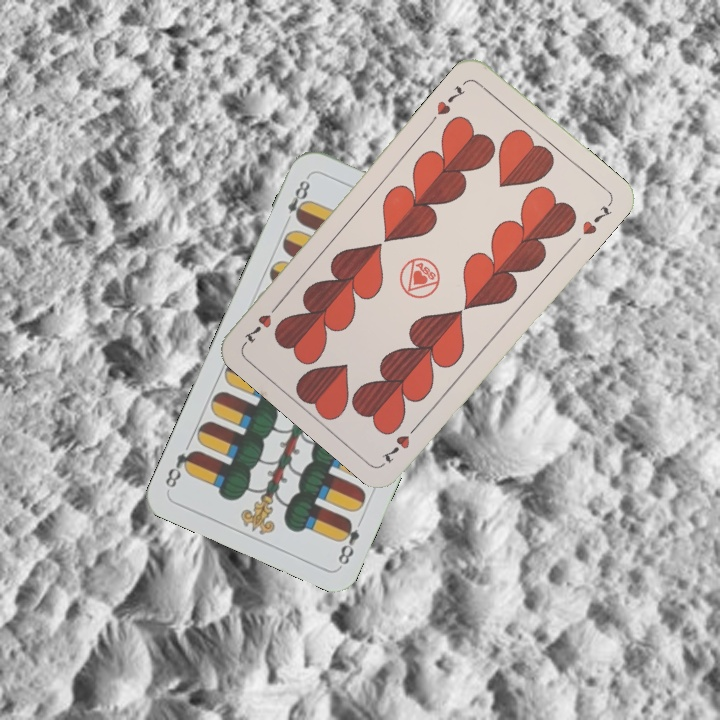E8: (281, 172, 313, 228), (333, 514, 363, 568)
H7: (377, 418, 423, 466), (432, 80, 468, 118)
